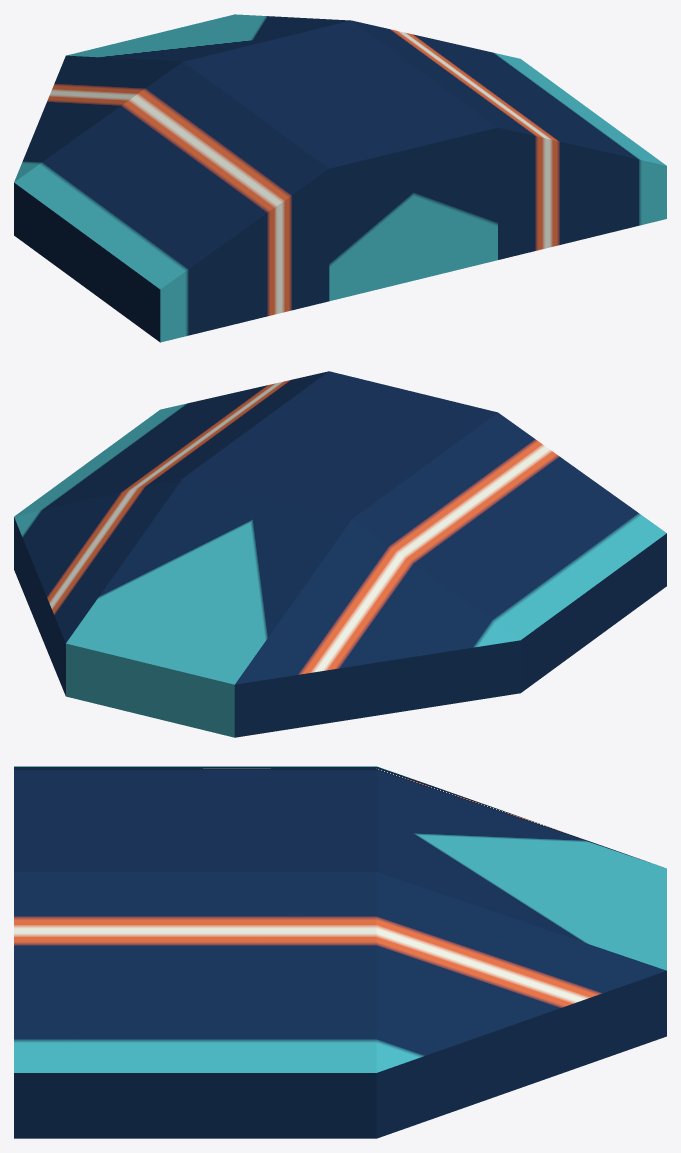
The model's file is player.fbx.
3 views of the same model, one above another, from view 1: azimuth 30°, elevation 25°; view 2: azimuth 150°, elevation 25°; view 3: azimuth 270°, elevation 25° (orthographic). The views are drawn at different scales.
Visible parts, largest first — view 1: Cube.001; view 2: Cube.001; view 3: Cube.001.
Part boxes in pixels (x1,y1,x2,y2): Cube.001: (14,14,666,342); Cube.001: (14,371,666,737); Cube.001: (14,766,666,1138).
Size of the model in its own units: 200 by 50 by 180.
